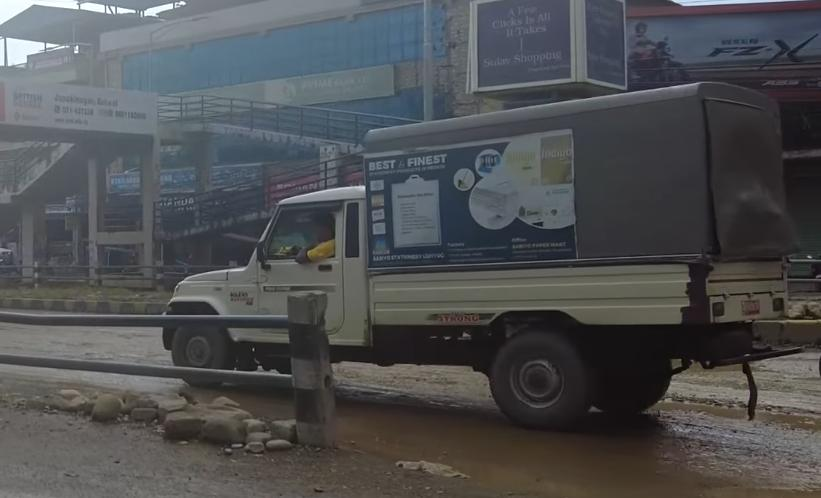transport_vehicle: (153, 79, 809, 429)
